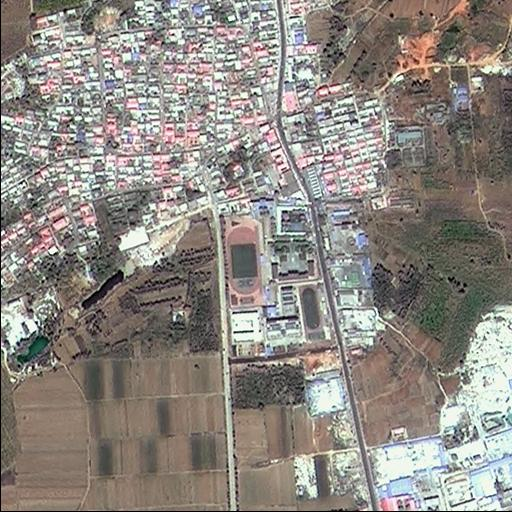school: (221, 204, 320, 309), (261, 280, 332, 344)
